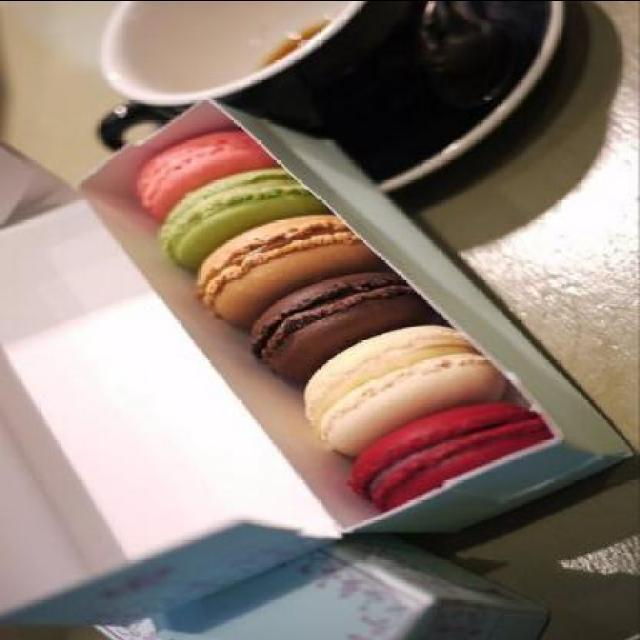Macaron: (130, 124, 582, 508)
